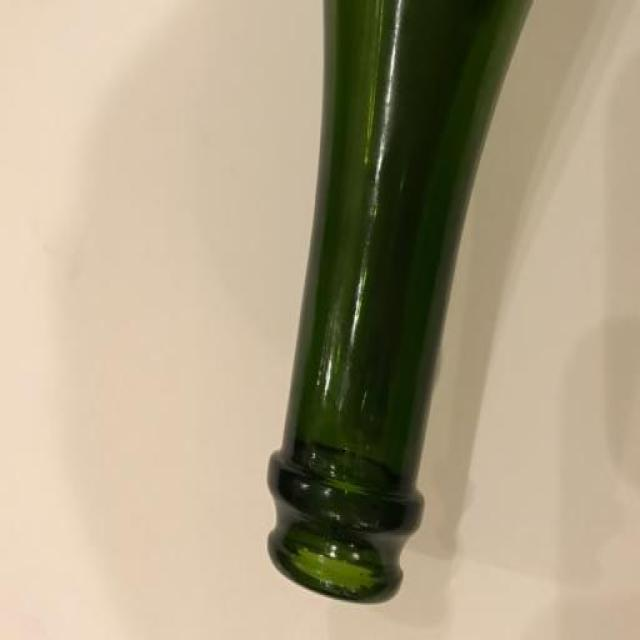glass: (246, 0, 563, 611)
